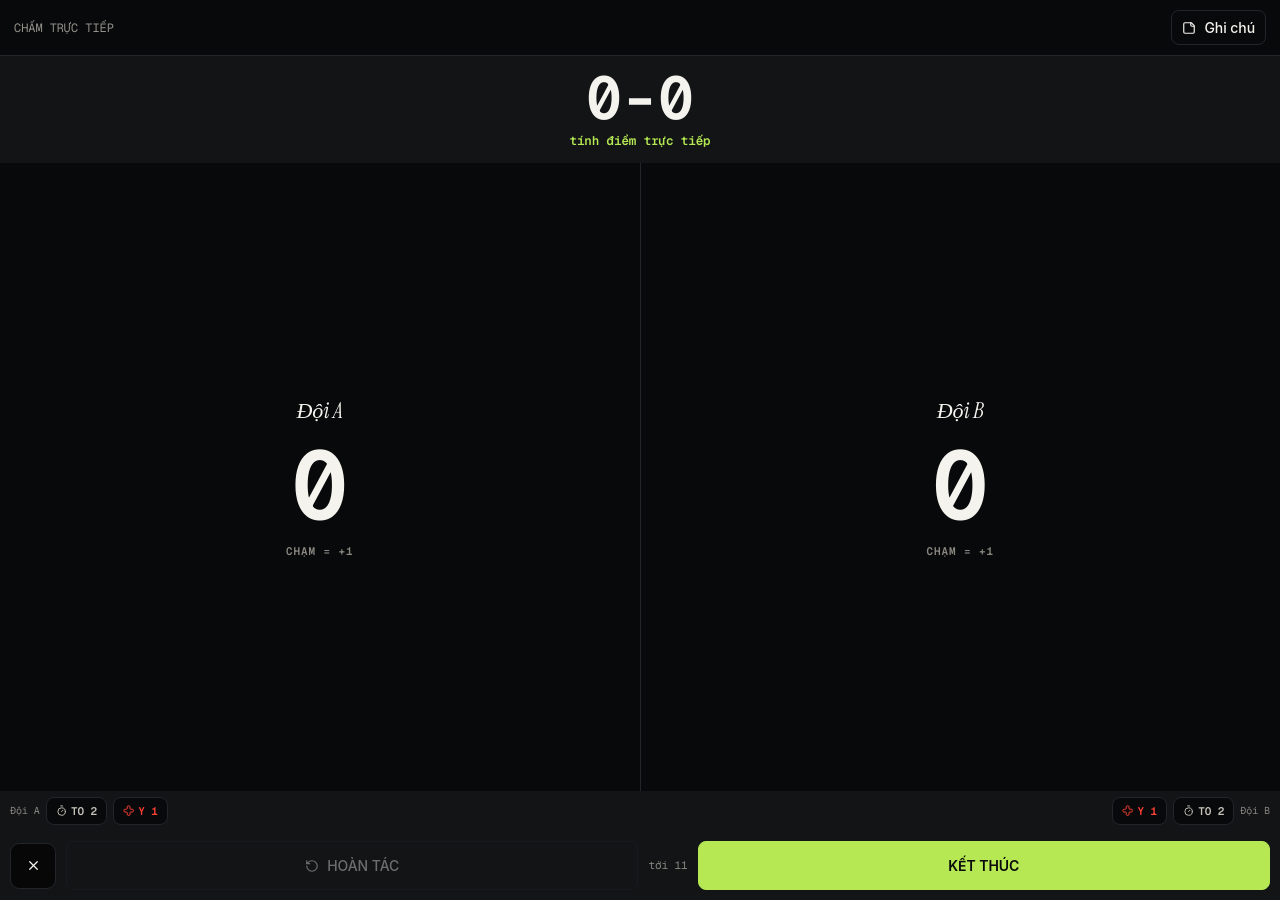
RefereeScoringScreen › kết thúc trận: xác nhận thì lưu tỉ số, xóa trạng thái tạm và dọn dòng live
Later steps or results of the test are not shown.
Click the 1st text "CHẠM = +1" at (320, 551), box [286,543,353,559]
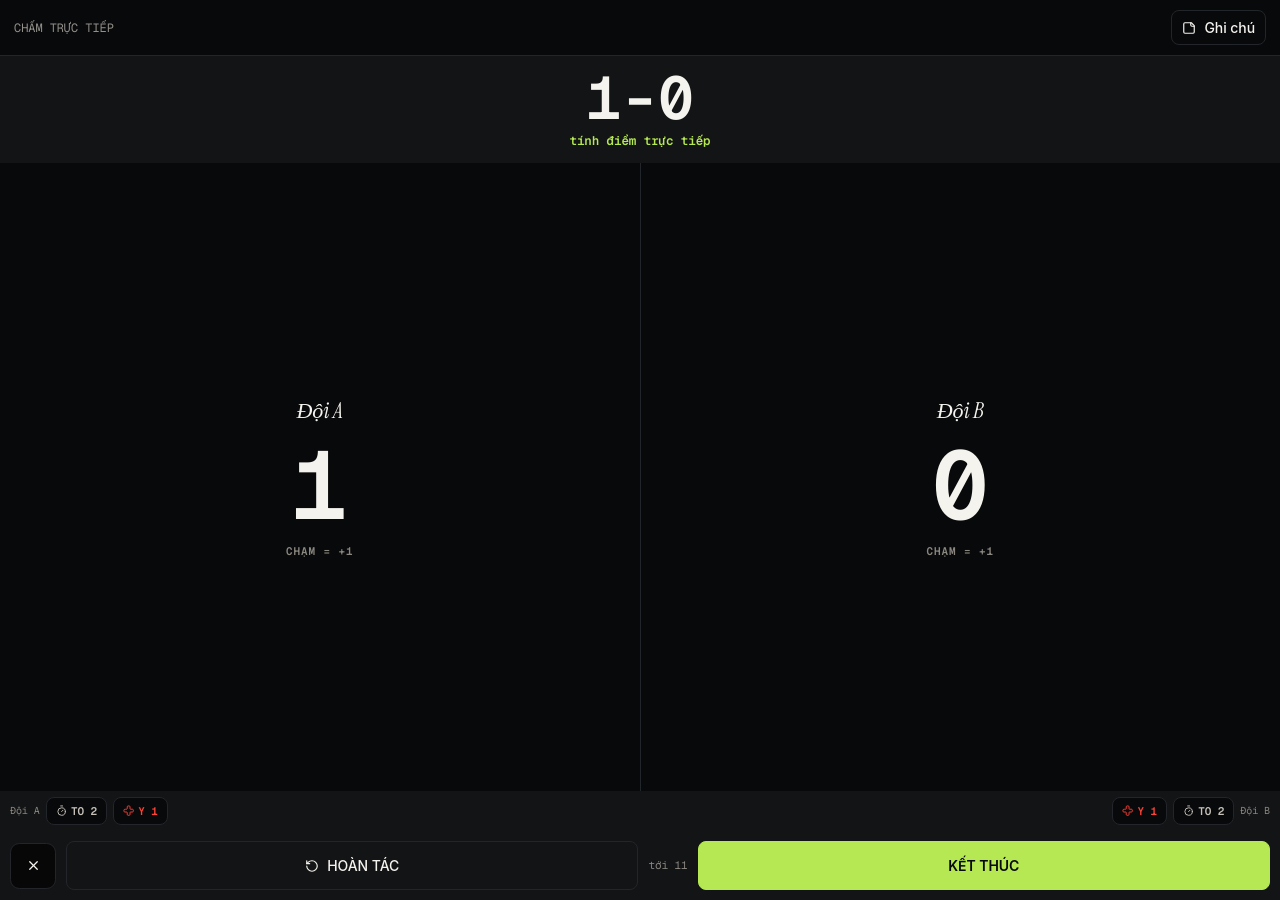
Click the button "KẾT THÚC" at (984, 866), box [698,841,1270,890]
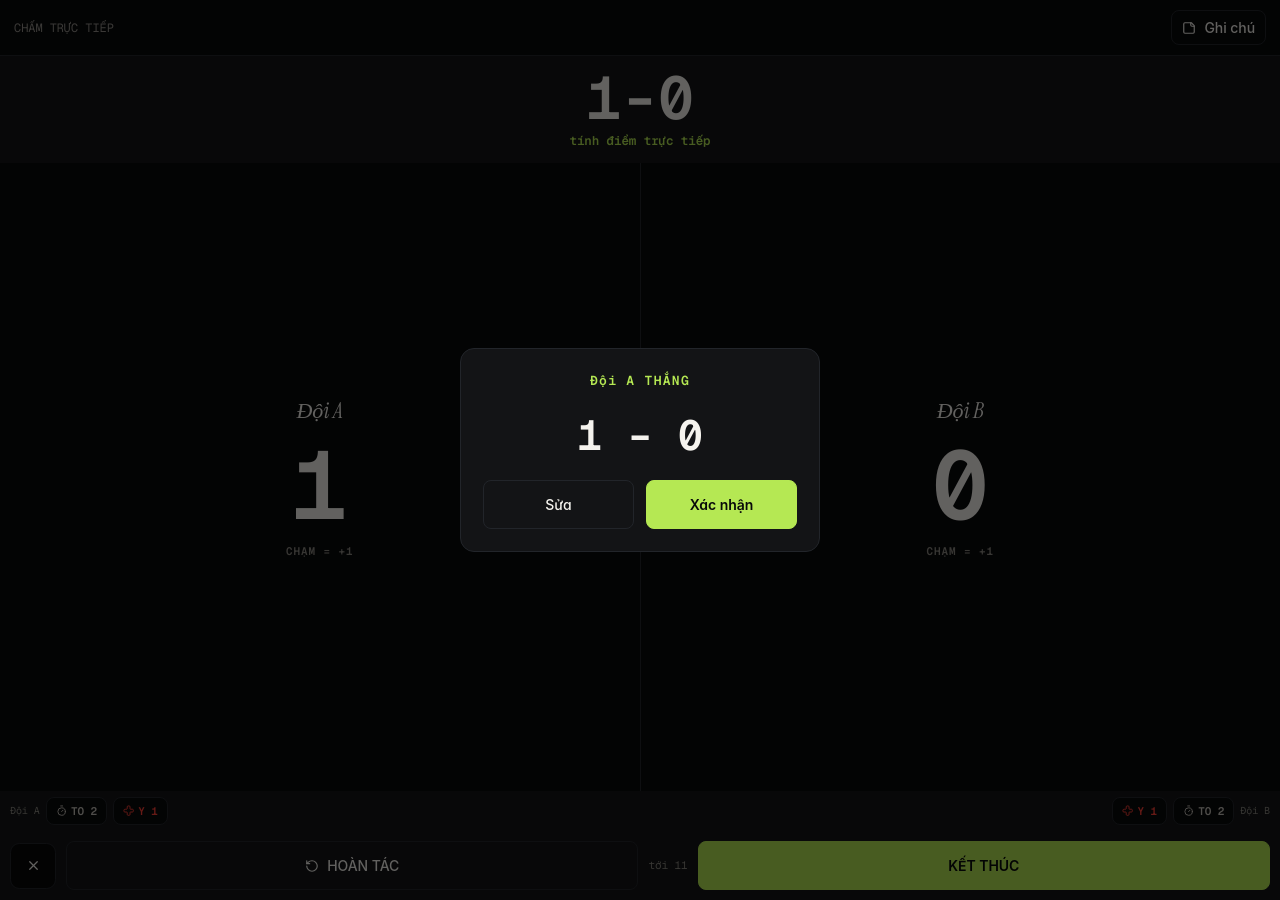
Expected: the text "Đội A THẮNG" is shown, [590,371,690,391]
